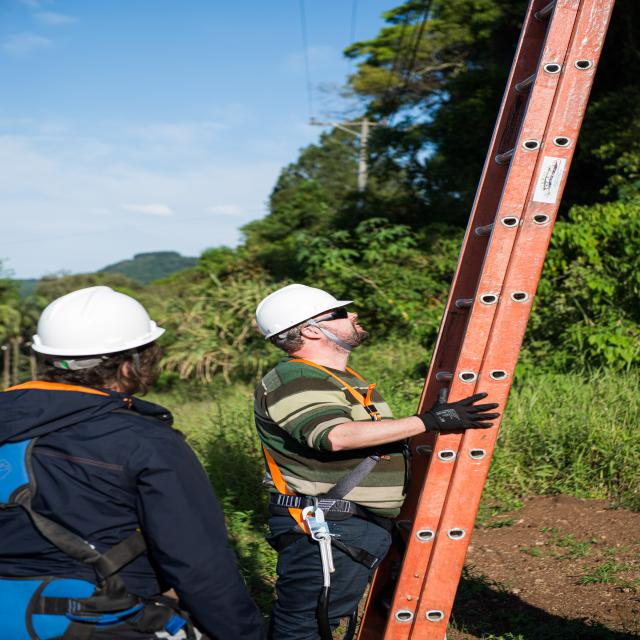capacete: (31, 284, 168, 357), (252, 284, 357, 342)
corda de vida: (246, 357, 417, 568)
luva: (413, 386, 503, 435)
